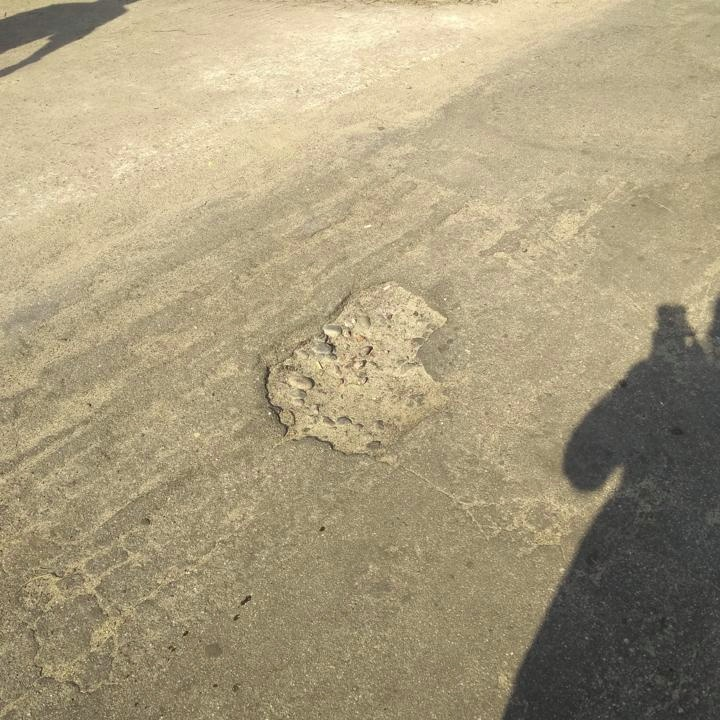pothole: (257, 276, 451, 457)
